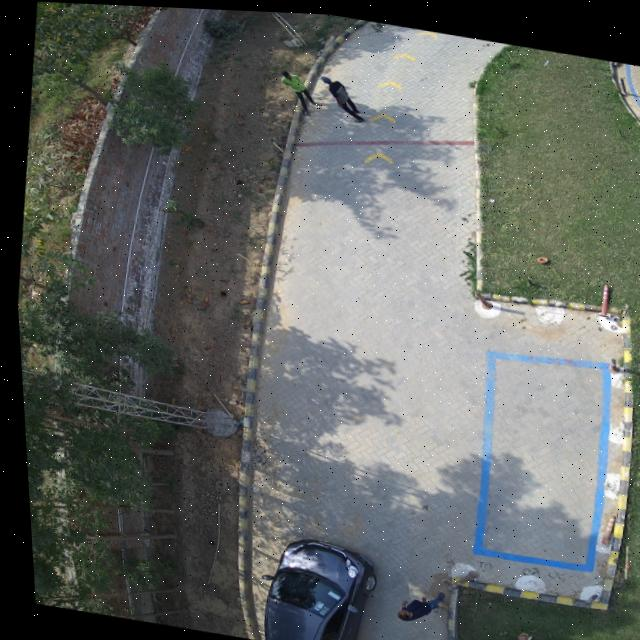car: (256, 535, 368, 640)
